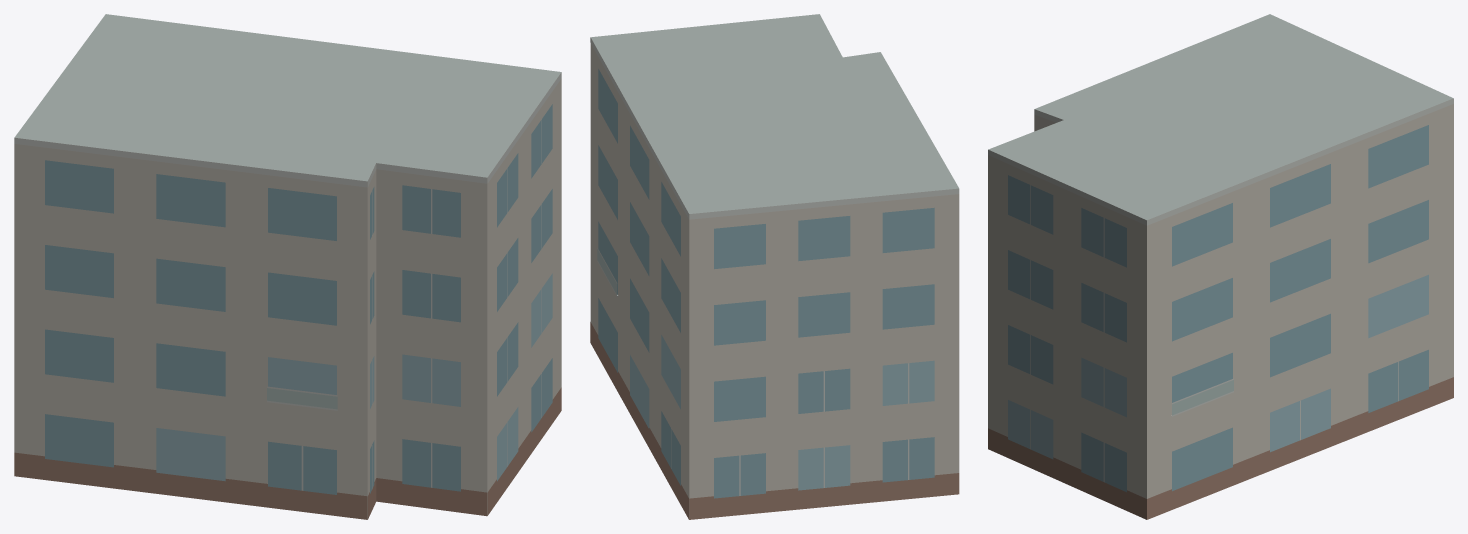
Rendered from survey-upis-32859089.glb.
The picture shows the model from 3 angles, left to right: view 1: azimuth 30°, elevation 25°; view 2: azimuth 150°, elevation 25°; view 3: azimuth 270°, elevation 25°; orthographic projection. The views are drawn at different scales.
Parts seen in each view (by area): view 1: survey-upis-32859089.tmp; view 2: survey-upis-32859089.tmp; view 3: survey-upis-32859089.tmp.
Part boxes in pixels (box(x1,y1,x2,y2)): survey-upis-32859089.tmp: box(14, 14, 561, 519); survey-upis-32859089.tmp: box(590, 14, 959, 519); survey-upis-32859089.tmp: box(988, 14, 1453, 519).
Size of the model in its own units: 19.8 by 13.4 by 18.89.
